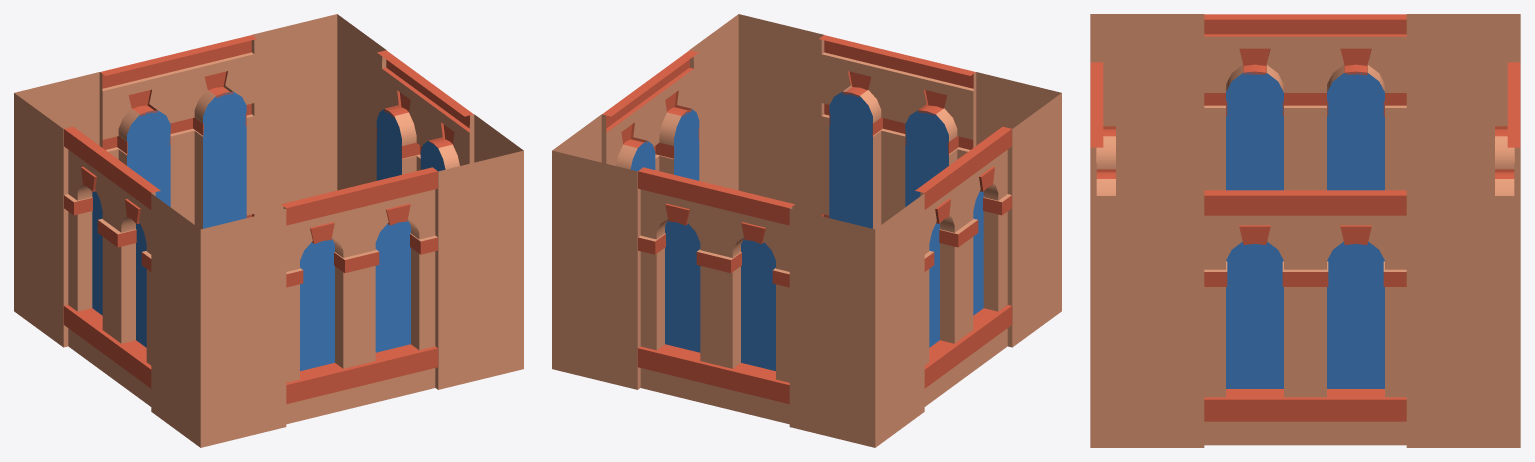
File: TowerFloor3.fbx
3 views of the same model, side by side, from view 1: azimuth 30°, elevation 25°; view 2: azimuth 150°, elevation 25°; view 3: azimuth 270°, elevation 25° (orthographic). The views are drawn at different scales.
Parts seen in each view (by area): view 1: TowerFloor3; view 2: TowerFloor3; view 3: TowerFloor3.
Boxes of the visible parts, box(x1,y1,x2,y2) form: TowerFloor3: box(14, 14, 523, 447); TowerFloor3: box(552, 14, 1061, 447); TowerFloor3: box(1090, 14, 1520, 447).
Bounding box in the file's own units: 5.78 × 3.74 × 5.78.
